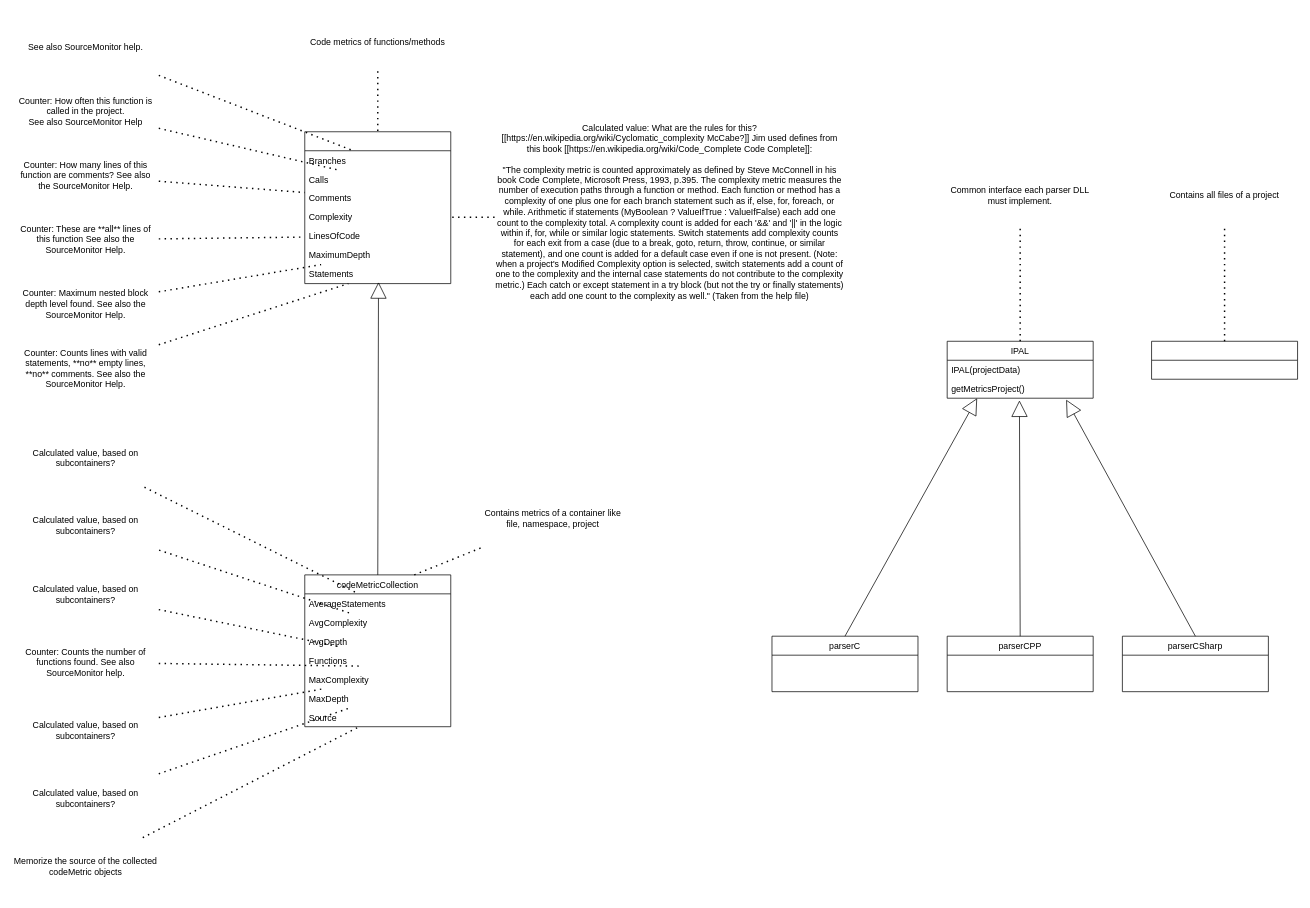
This 1310x908 diagram has some shape labels left out. The box of each missing label's shape, as (x1, y1, x2, y2) in pixels:
codeMetric: (304, 131, 451, 284)
projectData: (1151, 341, 1298, 379)
